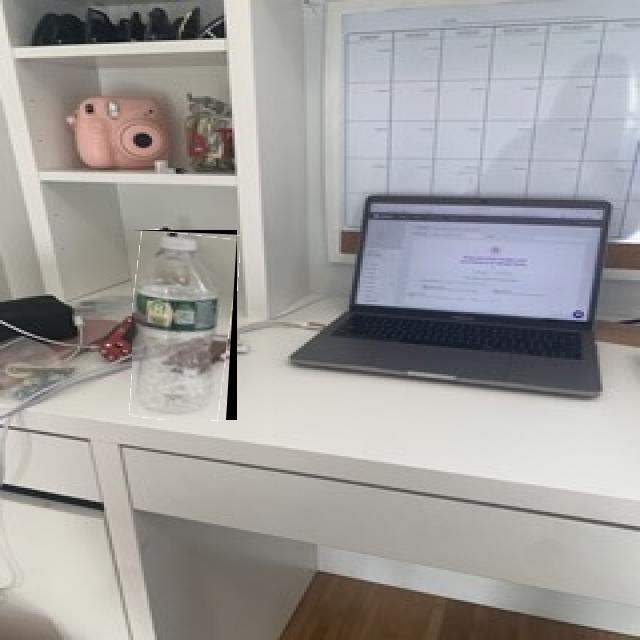water_bottle: (132, 230, 237, 420)
